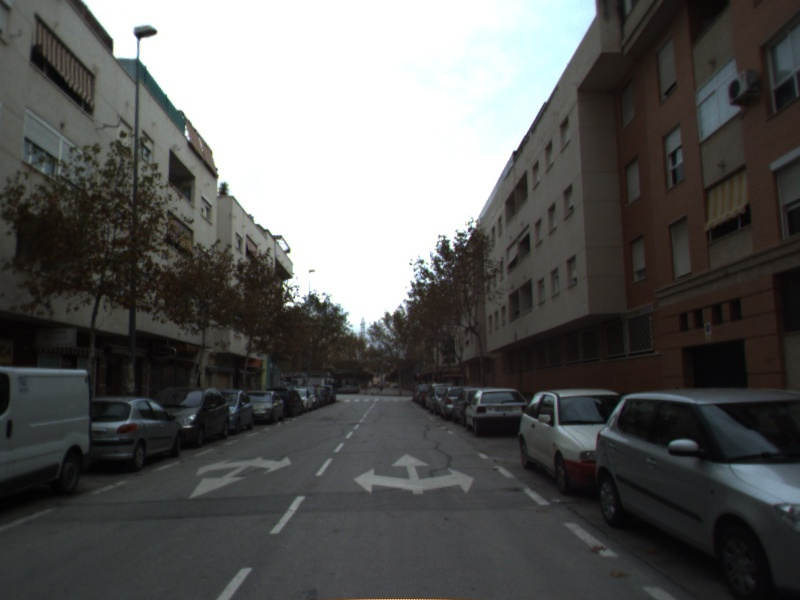STRAIGHT_LEFT_RIGHT: (351, 451, 477, 496)
